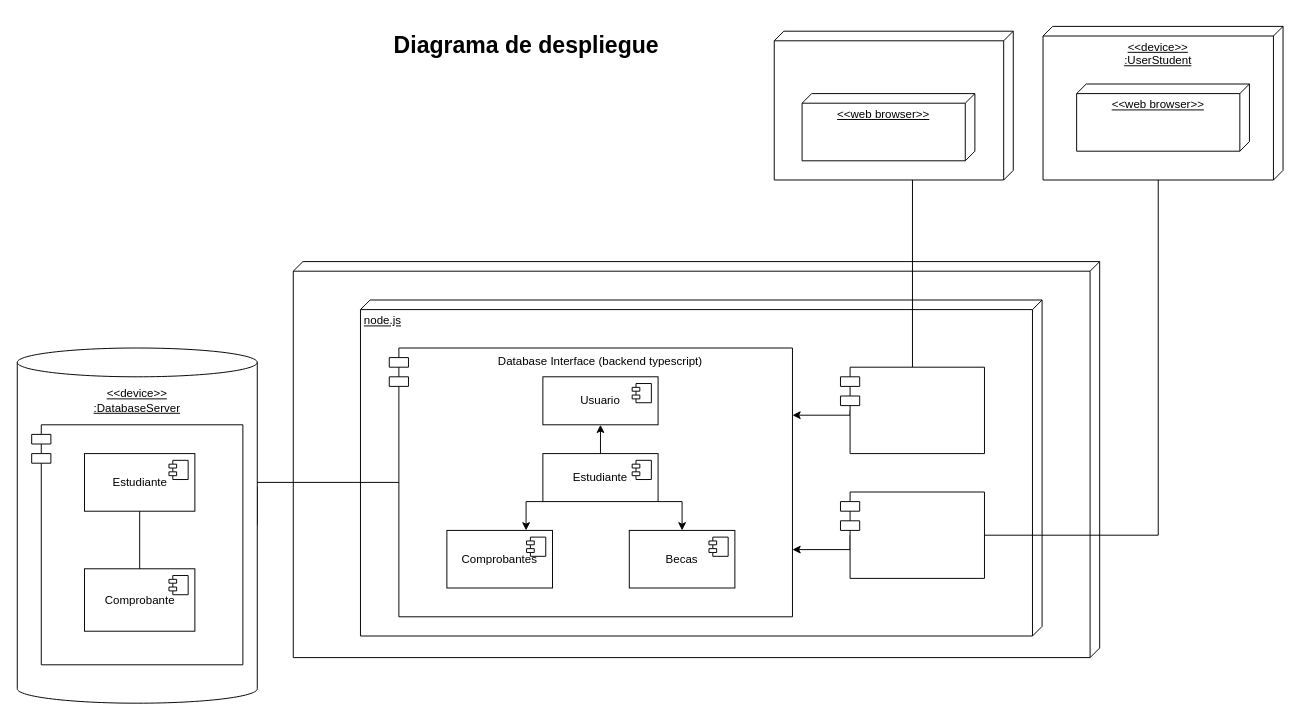
Image size: 1300x720. Some labels were removed from this diagram. Here are the shapes that lost their labels. From the top down, the box of each, then its label:
(773, 30, 1013, 180): <<device>> :Admin
(840, 366, 984, 454): Interfaz de administradores
(292, 261, 1100, 658): <<device>> :WebServer
(31, 424, 243, 665): MySQL
(840, 491, 984, 578): Interfaz de estudiantes
